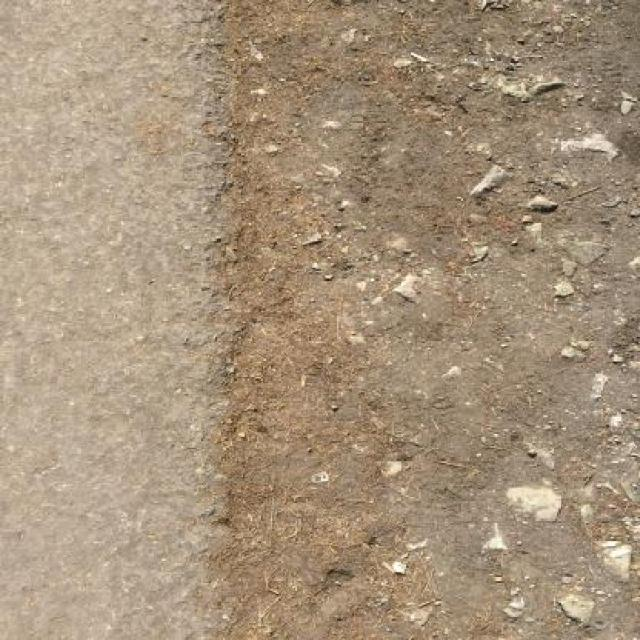Garbage: (311, 471, 329, 483)
